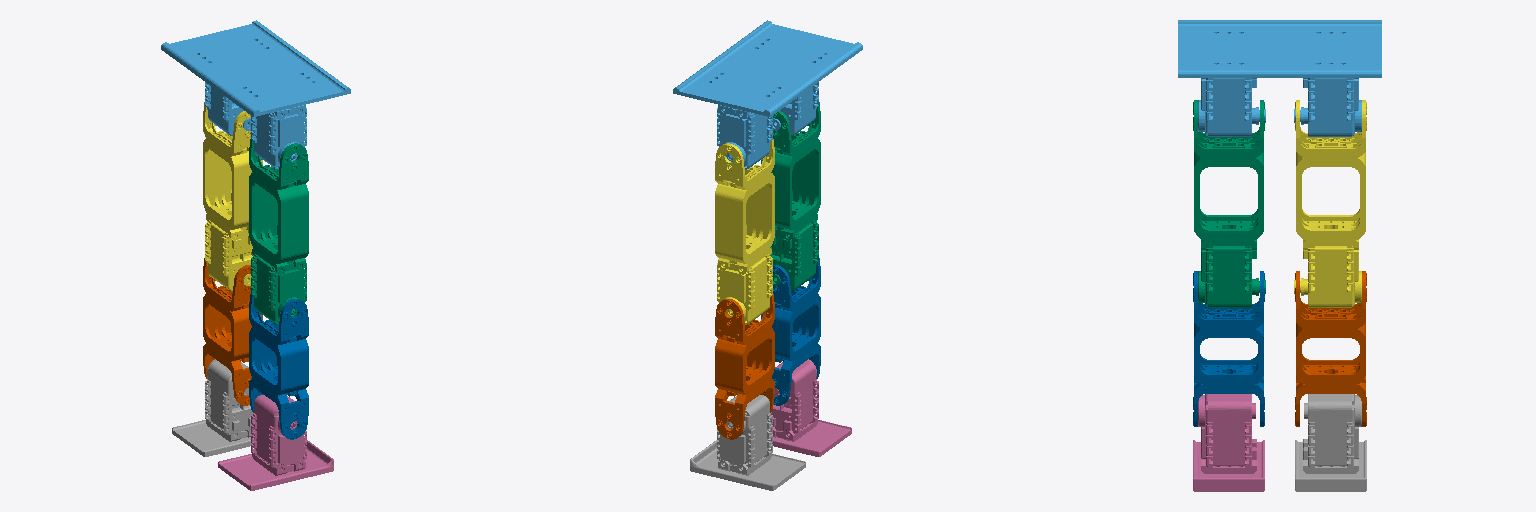
URDF robot description (BIPED_6DOF):
<?xml version="1.0" ?>
<robot name="BIPED_6DOF">

<material name="silver">
  <color rgba="0.700 0.700 0.700 1.000"/>
</material>

<link name="base_box">
  <inertial>
    
    <!--origin xyz="-0.07139043603557767 -0.16954551899156534 0.300032870177832" rpy="0 0 0"/-->
    <mass value="0"/>
    <inertia ixx="0.00025" ixy="0" ixz="0" iyy="0.00089" iyz="0" izz="0.00064"/>
     
     <!--inertia ixx="0.00250000000000000006" ixy="0" ixz="0" iyy="0.0089000000000000002" iyz="0" izz="0.00640" for m= 1/-->
  </inertial>
  <visual>
    <origin xyz="0 0 0" rpy="0 0 0"/>
    <geometry>
      <box size=".0 .0 .0"/>
    </geometry>
    <material name="silver"/>
    <material/>
  </visual>
  <collision>
    <origin xyz="0 0 0" rpy="0 0 0"/>
    <geometry>
      <box size=".0 .0 .0"/>
    </geometry>
  </collision>
</link>

<link name="base_link">
  <inertial>
    <origin xyz="-0.029594020996054855 0.0022273598022677986 0.29606315820319495" rpy="0 0 0"/>
    <mass value="0.2005127443560309"/>
    <inertia ixx="0.00037370842342260985" iyy="0.00012932219548198592" izz="0.0003374406043402189" ixy="4.3430727887115025e-08" iyz="6.042379866854491e-13" ixz="-1.3721832272869938e-09"/>
  </inertial>
  <visual>
    <origin xyz="0 0 0" rpy="0 0 0"/>
    <geometry>
      <mesh filename="meshes_6DOF/base_link.stl" scale="0.001 0.001 0.001"/>
    </geometry>
    <material name="silver"/>
    <material/>
  </visual>
  <collision>
    <origin xyz="0 0 0" rpy="0 0 0"/>
    <geometry>
      <mesh filename="meshes_6DOF/base_link.stl" scale="0.001 0.001 0.001"/>
    </geometry>
  </collision>
</link>

<link name="left_thigh_1">
  <inertial>
    <origin xyz="8.125937269596456e-06 0.020408159286522773 -0.0896235733402457" rpy="0 0 0"/>
    <mass value="0.09724735320093421"/>
    <inertia ixx="0.00016757359582272608" iyy="0.00015436713621375586" izz="2.4327023901887752e-05" ixy="2.9173951578370747e-09" iyz="-1.678994153012374e-06" ixz="7.503417914778154e-09"/>
  </inertial>
  <visual>
    <origin xyz="0.0296 0.053773 -0.2685" rpy="0 0 0"/>
    <geometry>
      <mesh filename="meshes_6DOF/left_thigh_1.stl" scale="0.001 0.001 0.001"/>
    </geometry>
    <material name="silver"/>
    <material/>
  </visual>
  <collision>
    <origin xyz="0.0296 0.053773 -0.2685" rpy="0 0 0"/>
    <geometry>
      <mesh filename="meshes_6DOF/left_thigh_1.stl" scale="0.001 0.001 0.001"/>
    </geometry>
  </collision>
</link>

<link name="right_thigh1">
  <inertial>
    <origin xyz="-1.0633864417439881e-05 -0.020407415752915138 -0.08962336772470209" rpy="0 0 0"/>
    <mass value="0.09724757540112071"/>
    <inertia ixx="0.00016757541814631498" iyy="0.00015436894766115896" izz="2.432704295913816e-05" ixy="2.802235268725391e-09" iyz="1.6787833269476518e-06" ixz="-5.05657801654763e-09"/>
  </inertial>
  <visual>
    <origin xyz="0.029589 -0.058227 -0.2685" rpy="0 0 0"/>
    <geometry>
      <mesh filename="meshes_6DOF/right_thigh1.stl" scale="0.001 0.001 0.001"/>
    </geometry>
    <material name="silver"/>
    <material/>
  </visual>
  <collision>
    <origin xyz="0.029589 -0.058227 -0.2685" rpy="0 0 0"/>
    <geometry>
      <mesh filename="meshes_6DOF/right_thigh1.stl" scale="0.001 0.001 0.001"/>
    </geometry>
  </collision>
</link>

<link name="left_knee1">
  <inertial>
    <origin xyz="8.520880527829178e-07 0.021000359800422204 -0.04699974908701893" rpy="0 0 0"/>
    <mass value="0.040048197351373965"/>
    <inertia ixx="3.92691557144559e-05" iyy="2.903977167525323e-05" izz="1.5009422132497026e-05" ixy="1.395910297075087e-18" iyz="1.0273366765579592e-12" ixz="5.55653613398821e-19"/>
  </inertial>
  <visual>
    <origin xyz="0.0296 0.053773 -0.139" rpy="0 0 0"/>
    <geometry>
      <mesh filename="meshes_6DOF/left_knee1.stl" scale="0.001 0.001 0.001"/>
    </geometry>
    <material name="silver"/>
    <material/>
  </visual>
  <collision>
    <origin xyz="0.0296 0.053773 -0.139" rpy="0 0 0"/>
    <geometry>
      <mesh filename="meshes_6DOF/left_knee1.stl" scale="0.001 0.001 0.001"/>
    </geometry>
  </collision>
</link>

<link name="right_knee1">
  <inertial>
    <origin xyz="8.413480917304761e-07 -0.020999640199578208 -0.04699974908701822" rpy="0 0 0"/>
    <mass value="0.04004819735137413"/>
    <inertia ixx="3.9269155714456066e-05" iyy="2.903977167525442e-05" izz="1.5009422132496755e-05" ixy="1.0164395367051604e-19" iyz="1.0273380724682563e-12" ixz="4.472333961502706e-19"/>
  </inertial>
  <visual>
    <origin xyz="0.029589 -0.058227 -0.139" rpy="0 0 0"/>
    <geometry>
      <mesh filename="meshes_6DOF/right_knee1.stl" scale="0.001 0.001 0.001"/>
    </geometry>
    <material name="silver"/>
    <material/>
  </visual>
  <collision>
    <origin xyz="0.029589 -0.058227 -0.139" rpy="0 0 0"/>
    <geometry>
      <mesh filename="meshes_6DOF/right_knee1.stl" scale="0.001 0.001 0.001"/>
    </geometry>
  </collision>
</link>

<link name="left_foot1">
  <inertial>
    <origin xyz="-0.000199142853862095 0.02014035791386131 -0.02093934969816068" rpy="0 0 0"/>
    <mass value="0.07898483612777403"/>
    <inertia ixx="3.510255370536421e-05" iyy="3.680703321818653e-05" izz="2.282470699136829e-05" ixy="1.0109274132069049e-08" iyz="8.047843336740461e-07" ixz="-4.774390428667077e-07"/>
  </inertial>
  <visual>
    <origin xyz="0.0296 0.053773 -0.045" rpy="0 0 0"/>
    <geometry>
      <mesh filename="meshes_6DOF/left_foot1.stl" scale="0.001 0.001 0.001"/>
    </geometry>
    <material name="silver"/>
    <material/>
  </visual>
  <collision>
    <origin xyz="0.0296 0.053773 -0.045" rpy="0 0 0"/>
    <geometry>
      <mesh filename="meshes_6DOF/left_foot1.stl" scale="0.001 0.001 0.001"/>
    </geometry>
  </collision>
</link>

<link name="right_foot1">
  <inertial>
    <origin xyz="-0.00017607100524496752 -0.020139638133281325 -0.020939349531155355" rpy="0 0 0"/>
    <mass value="0.07898483525804643"/>
    <inertia ixx="3.510255302518873e-05" iyy="3.680771525129755e-05" izz="2.282538874780757e-05" ixy="-1.5340981659756493e-08" iyz="-8.047842296740533e-07" ixz="-4.554828274700844e-07"/>
  </inertial>
  <visual>
    <origin xyz="0.029589 -0.058227 -0.045" rpy="0 0 0"/>
    <geometry>
      <mesh filename="meshes_6DOF/right_foot1.stl" scale="0.001 0.001 0.001"/>
    </geometry>
    <material name="silver"/>
    <material/>
  </visual>
  <collision>
    <origin xyz="0.029589 -0.058227 -0.045" rpy="0 0 0"/>
    <geometry>
      <mesh filename="meshes_6DOF/right_foot1.stl" scale="0.001 0.001 0.001"/>
    </geometry>
  </collision>
</link>

<joint name="base_joint" type="fixed">
  <!--origin xyz="-0.07139043603557767 -0.19954551899156534 0.325032870177832" rpy="0 0 0"/-->
  <origin xyz="-0.05139043603557767 -0.00009954551899156534 0.330032870177832" rpy="0 0 0"/>
  <parent link="base_link"/>
  <child link="base_box"/>
</joint>

<joint name="Revolute_56" type="continuous">
  <origin xyz="-0.0296 -0.053773 0.2685" rpy="0 0 0"/>
  <parent link="base_link"/>
  <child link="left_thigh_1"/>
  <axis xyz="0.0 1.0 0.0"/>
</joint>
<transmission name="Revolute_56_tran">
  <type>transmission_interface/SimpleTransmission</type>
  <joint name="Revolute_56">
    <hardwareInterface>PositionJointInterface</hardwareInterface>
  </joint>
  <actuator name="Revolute_56_actr">
    <hardwareInterface>PositionJointInterface</hardwareInterface>
    <mechanicalReduction>1</mechanicalReduction>
  </actuator>
</transmission>

<joint name="Revolute_57" type="continuous">
  <origin xyz="-0.029589 0.058227 0.2685" rpy="0 0 0"/>
  <parent link="base_link"/>
  <child link="right_thigh1"/>
  <axis xyz="-0.0 -1.0 -0.0"/>
</joint>
<transmission name="Revolute_57_tran">
  <type>transmission_interface/SimpleTransmission</type>
  <joint name="Revolute_57">
    <hardwareInterface>PositionJointInterface</hardwareInterface>
  </joint>
  <actuator name="Revolute_57_actr">
    <hardwareInterface>PositionJointInterface</hardwareInterface>
    <mechanicalReduction>1</mechanicalReduction>
  </actuator>
</transmission>

<joint name="Revolute_58" type="continuous">
  <origin xyz="0.0 0.0 -0.1295" rpy="0 0 0"/>
  <parent link="left_thigh_1"/>
  <child link="left_knee1"/>
  <axis xyz="-0.0 1.0 0.0"/>
</joint>
<transmission name="Revolute_58_tran">
  <type>transmission_interface/SimpleTransmission</type>
  <joint name="Revolute_58">
    <hardwareInterface>PositionJointInterface</hardwareInterface>
  </joint>
  <actuator name="Revolute_58_actr">
    <hardwareInterface>PositionJointInterface</hardwareInterface>
    <mechanicalReduction>1</mechanicalReduction>
  </actuator>
</transmission>

<joint name="Revolute_59" type="continuous">
  <origin xyz="0.0 0.0 -0.1295" rpy="0 0 0"/>
  <parent link="right_thigh1"/>
  <child link="right_knee1"/>
  <axis xyz="0.0 -1.0 -0.0"/>
</joint>
<transmission name="Revolute_59_tran">
  <type>transmission_interface/SimpleTransmission</type>
  <joint name="Revolute_59">
    <hardwareInterface>PositionJointInterface</hardwareInterface>
  </joint>
  <actuator name="Revolute_59_actr">
    <hardwareInterface>PositionJointInterface</hardwareInterface>
    <mechanicalReduction>1</mechanicalReduction>
  </actuator>
</transmission>

<joint name="Revolute_60" type="continuous">
  <origin xyz="0.0 0.0 -0.094" rpy="0 0 0"/>
  <parent link="left_knee1"/>
  <child link="left_foot1"/>
  <axis xyz="-0.0 1.0 0.0"/>
</joint>
<transmission name="Revolute_60_tran">
  <type>transmission_interface/SimpleTransmission</type>
  <joint name="Revolute_60">
    <hardwareInterface>PositionJointInterface</hardwareInterface>
  </joint>
  <actuator name="Revolute_60_actr">
    <hardwareInterface>PositionJointInterface</hardwareInterface>
    <mechanicalReduction>1</mechanicalReduction>
  </actuator>
</transmission>

<joint name="Revolute_61" type="continuous">
  <origin xyz="0.0 0.0 -0.094" rpy="0 0 0"/>
  <parent link="right_knee1"/>
  <child link="right_foot1"/>
  <axis xyz="-0.0 1.0 0.0"/>
</joint>
<transmission name="Revolute_61_tran">
  <type>transmission_interface/SimpleTransmission</type>
  <joint name="Revolute_61">
    <hardwareInterface>PositionJointInterface</hardwareInterface>
  </joint>
  <actuator name="Revolute_61_actr">
    <hardwareInterface>PositionJointInterface</hardwareInterface>
    <mechanicalReduction>1</mechanicalReduction>
  </actuator>
</transmission>

</robot>

--- Render facts (derived) ---
Views: 3 orthographic renders of the robot side by side, from view 1: azimuth 30°, elevation 25°; view 2: azimuth 150°, elevation 25°; view 3: azimuth 270°, elevation 25°.
Model BIPED_6DOF with 8 links and 7 joints (6 continuous, 1 fixed), rooted at base_link, posed every joint at zero.
Links seen in each view (by area): view 1: base_link, left_thigh_1, right_thigh1, left_knee1, left_foot1, right_knee1, right_foot1; view 2: base_link, right_thigh1, left_thigh_1, right_knee1, right_foot1, left_knee1, left_foot1; view 3: base_link, right_thigh1, left_thigh_1, left_foot1, right_foot1, left_knee1, right_knee1.
Boxes of the visible links, left/top/right/bottom form: base_link: left=161, top=20, right=350, bottom=169; left_thigh_1: left=249, top=135, right=308, bottom=324; right_thigh1: left=203, top=102, right=262, bottom=290; left_knee1: left=249, top=290, right=308, bottom=439; left_foot1: left=218, top=395, right=333, bottom=490; right_knee1: left=203, top=258, right=262, bottom=405; right_foot1: left=172, top=359, right=253, bottom=456; base_link: left=673, top=20, right=862, bottom=169; right_thigh1: left=715, top=135, right=774, bottom=324; left_thigh_1: left=761, top=102, right=820, bottom=290; right_knee1: left=715, top=290, right=774, bottom=439; right_foot1: left=690, top=395, right=805, bottom=490; left_knee1: left=761, top=258, right=820, bottom=405; left_foot1: left=770, top=359, right=851, bottom=456; base_link: left=1178, top=20, right=1381, bottom=136; right_thigh1: left=1294, top=100, right=1366, bottom=307; left_thigh_1: left=1193, top=100, right=1265, bottom=307; left_foot1: left=1193, top=394, right=1264, bottom=491; right_foot1: left=1295, top=394, right=1366, bottom=491; left_knee1: left=1193, top=271, right=1264, bottom=426; right_knee1: left=1295, top=271, right=1366, bottom=426.
Bounding box of the posed robot: 0.085 × 0.14 × 0.33 m (x, y, z).
Meshes: 7 distinct files referenced, 7 mesh visuals loaded (7 binary STL).